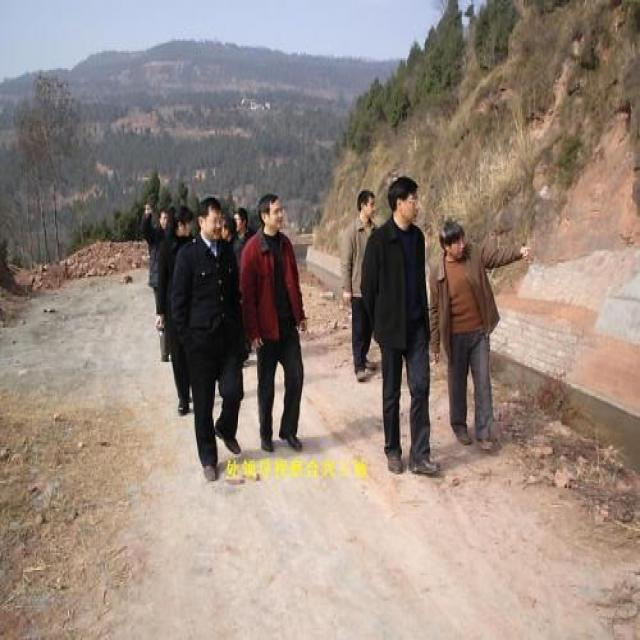no hat: (436, 207, 474, 270), (386, 170, 422, 230), (254, 189, 286, 234), (197, 198, 223, 241), (354, 186, 378, 226), (168, 203, 192, 241), (230, 204, 250, 236), (156, 203, 170, 232)
